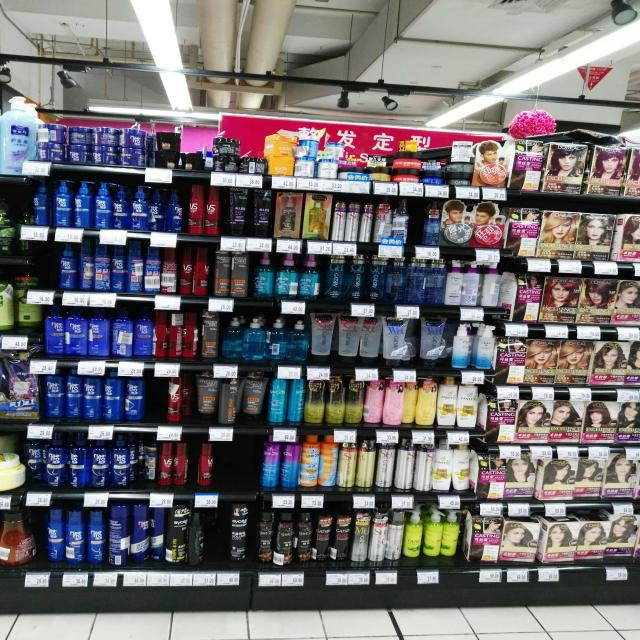void: (222, 442, 254, 502), (207, 507, 227, 586)
